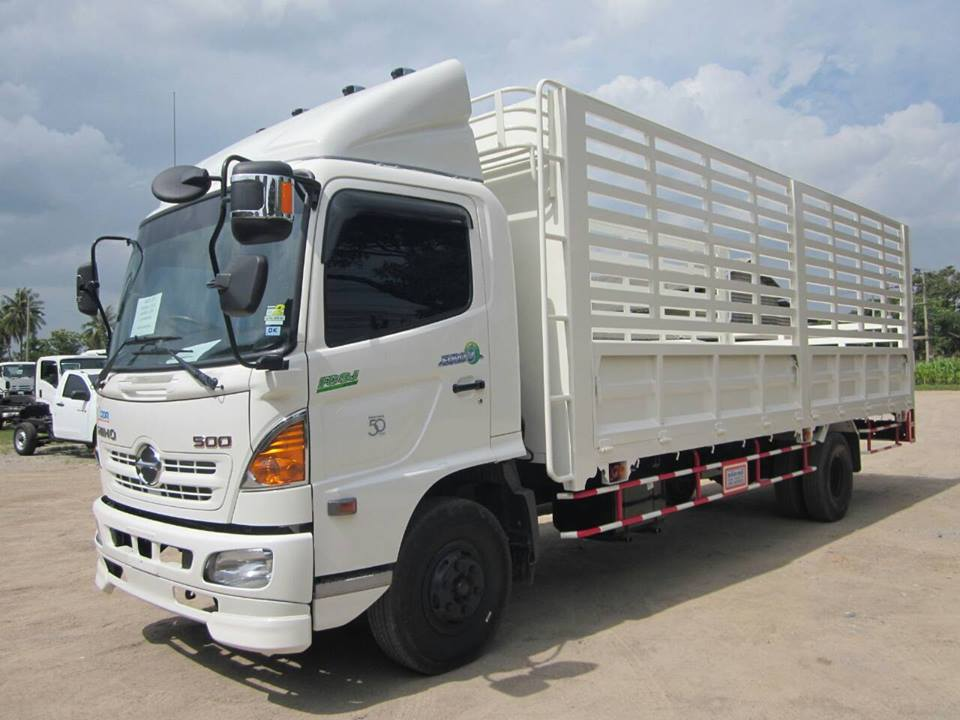truck: (93, 74, 910, 674)
